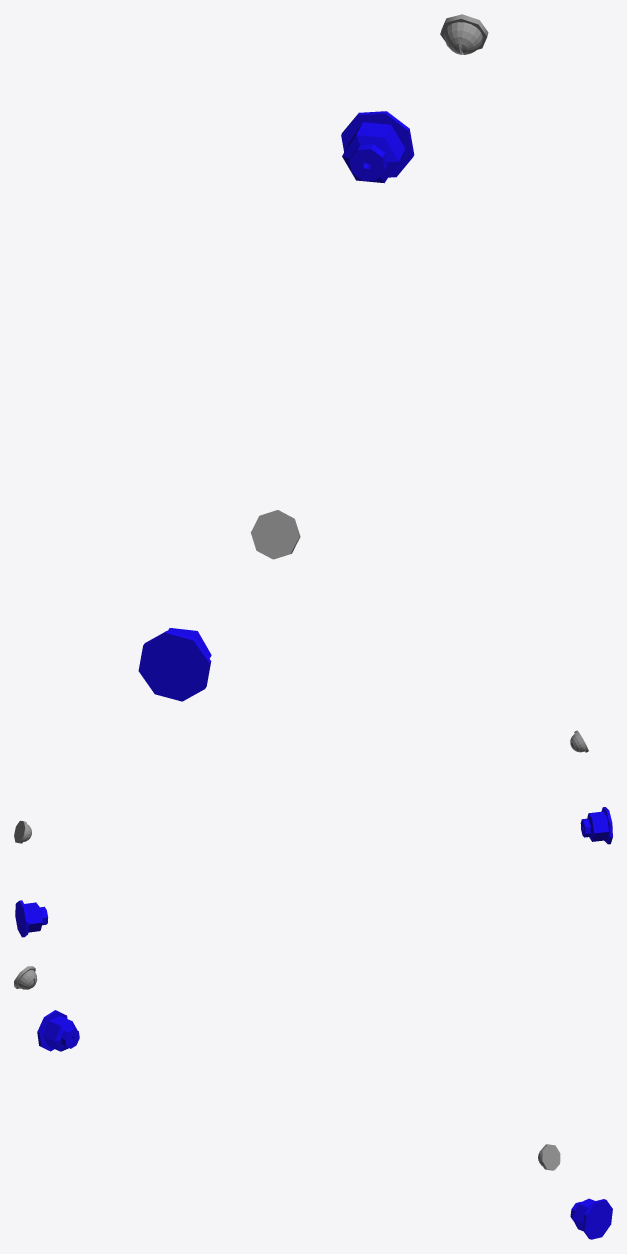
File: LoSPenDIeNTeSdElAjENnY.FBX
3 views of the same model, one above another, from view 1: azimuth 30°, elevation 25°; view 2: azimuth 150°, elevation 25°; view 3: azimuth 270°, elevation 25° (orthographic). The views are drawn at different scales.
Parts seen in each view (by area): view 1: Cylinder002, Patch001, Sphere001, Sphere002; view 2: Patch001, Cylinder002, Sphere002; view 3: Cylinder002, Patch001, Sphere002, Sphere001.
Boxes of the visible parts, left/top/right/bottom form: Cylinder002: left=138, top=628, right=211, bottom=701; Patch001: left=341, top=111, right=414, bottom=183; Sphere001: left=250, top=510, right=300, bottom=559; Sphere002: left=440, top=14, right=488, bottom=54; Patch001: left=15, top=900, right=48, bottom=937; Cylinder002: left=580, top=807, right=612, bottom=844; Sphere002: left=14, top=820, right=31, bottom=843; Cylinder002: left=37, top=1010, right=79, bottom=1051; Patch001: left=570, top=1198, right=612, bottom=1239; Sphere002: left=538, top=1144, right=560, bottom=1170; Sphere001: left=14, top=966, right=37, bottom=989.
Size of the model in its own units: 19.58 by 4.52 by 23.35.
